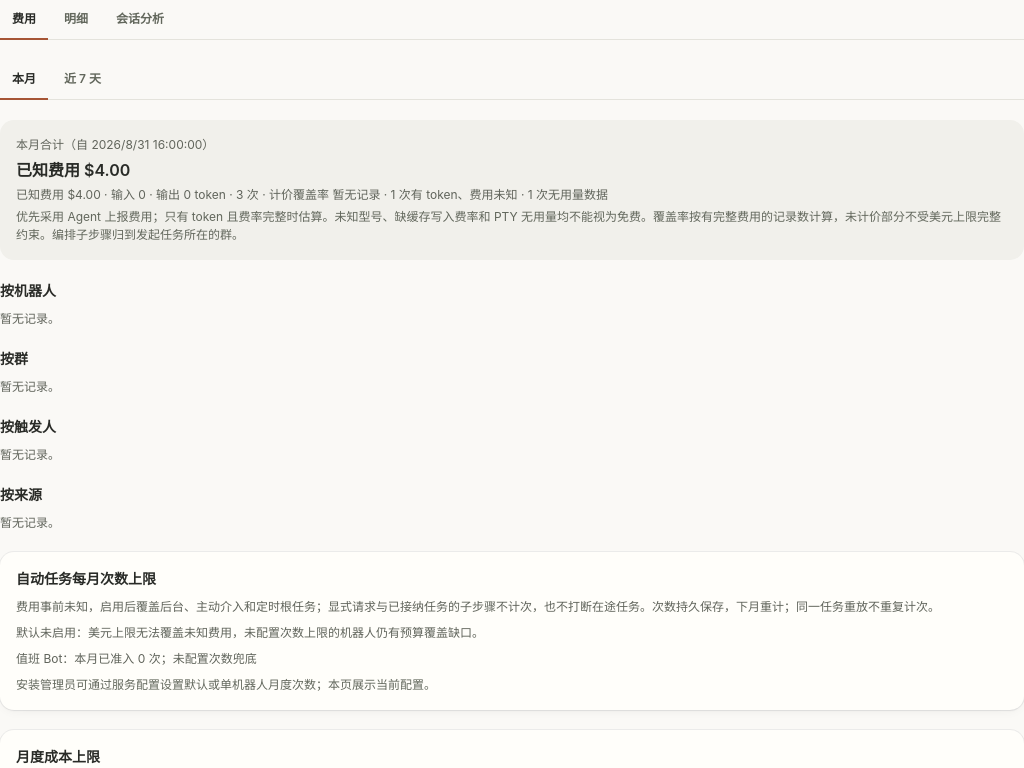
usage detail tab › explains an empty range instead of drawing zeros
The width and height of the screenshot is (1024, 768).
Click the tab "明细": (76, 20) [52, 0, 100, 40]
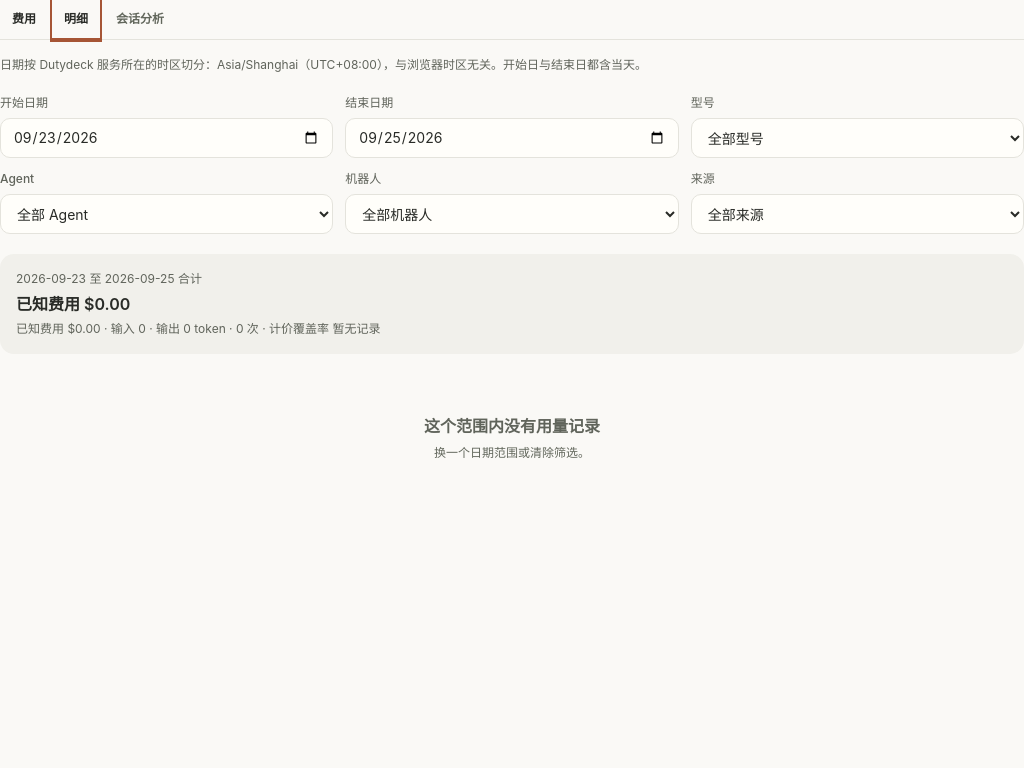
Now the text "这个范围内没有用量记录" is shown, box [424, 414, 600, 438]
